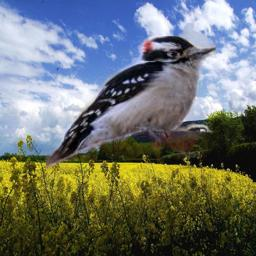Woodpecker: (46, 36, 216, 168)
